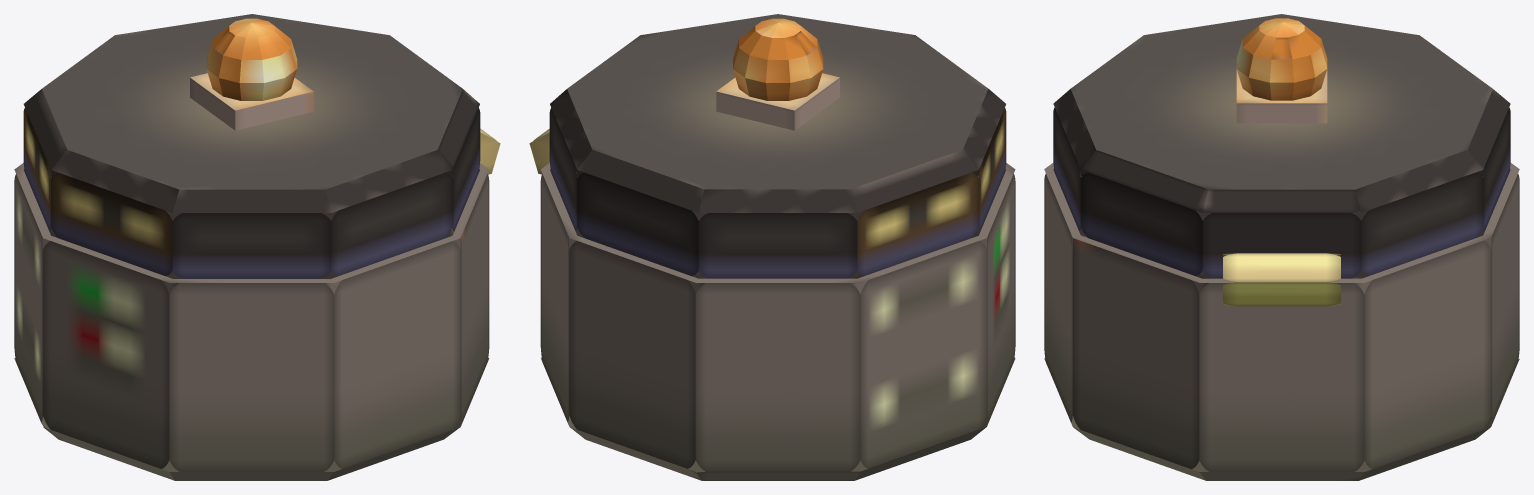
The model's file is MultiCooker.fbx.
The picture shows the model from 3 angles, left to right: view 1: azimuth 30°, elevation 25°; view 2: azimuth 150°, elevation 25°; view 3: azimuth 270°, elevation 25°; orthographic projection.
Parts seen in each view (by area): view 1: Body, cylinder_1, sphere, cuboid, cylinder; view 2: Body, cylinder_1, sphere, cuboid, cylinder; view 3: Body, cylinder_1, cylinder, sphere, cuboid.
Part boxes in pixels (left/top/right/bottom): Body: left=14, top=163, right=489, bottom=480; cylinder_1: left=23, top=14, right=480, bottom=278; sphere: left=206, top=18, right=297, bottom=100; cuboid: left=190, top=73, right=313, bottom=130; cylinder: left=480, top=128, right=500, bottom=174; Body: left=540, top=163, right=1015, bottom=480; cylinder_1: left=549, top=14, right=1006, bottom=278; sphere: left=733, top=18, right=823, bottom=100; cuboid: left=716, top=73, right=839, bottom=130; cylinder: left=529, top=129, right=549, bottom=174; Body: left=1044, top=163, right=1519, bottom=480; cylinder_1: left=1053, top=14, right=1510, bottom=278; cylinder: left=1223, top=253, right=1340, bottom=306; sphere: left=1236, top=18, right=1327, bottom=100; cuboid: left=1236, top=69, right=1327, bottom=123.
Bounding box in the file's own units: 109 × 90 × 105.
Materials: 1 (1 with a texture image).
